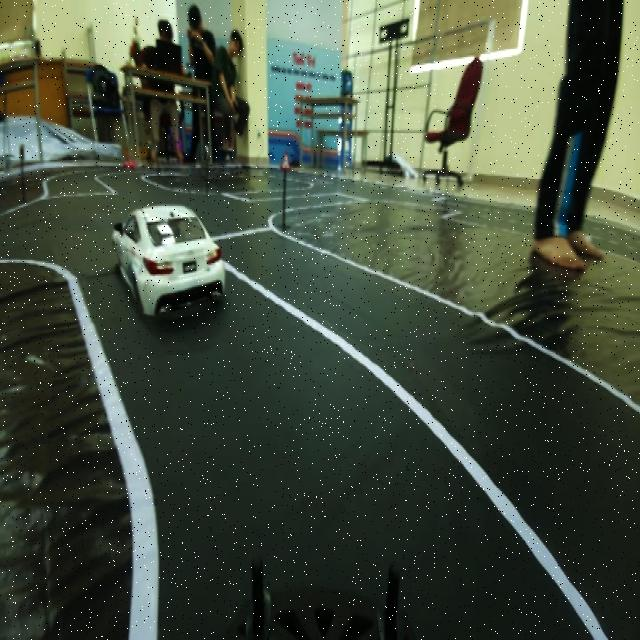car: (107, 200, 233, 324)
